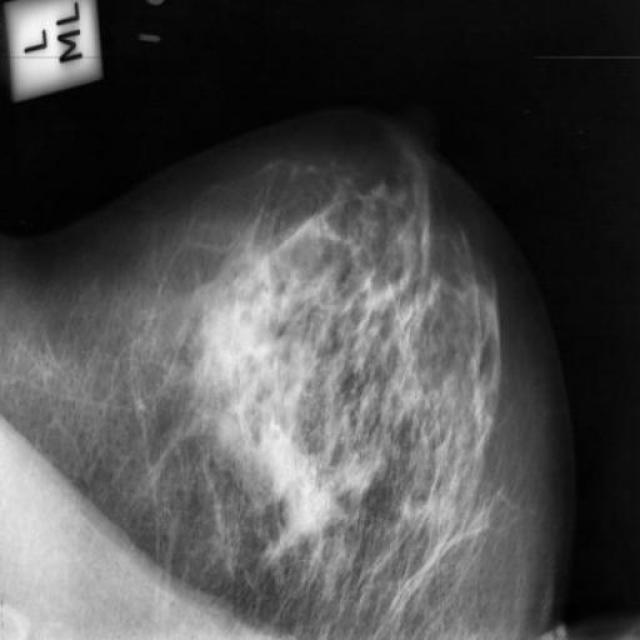cancer: (341, 236, 444, 360)
